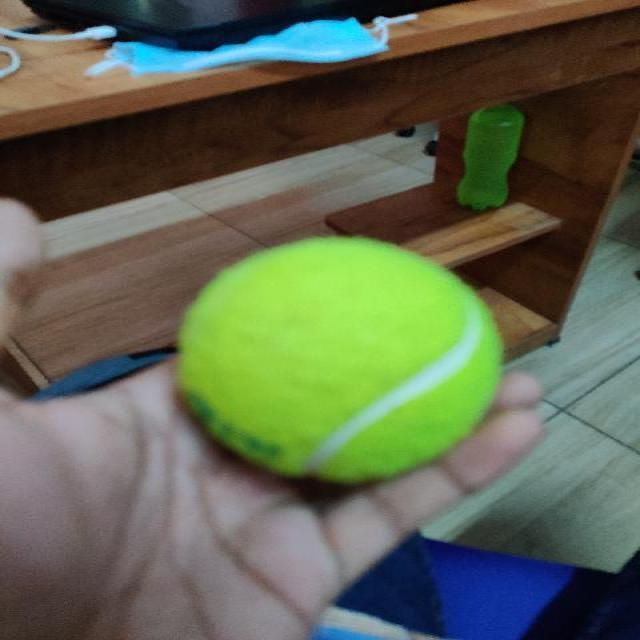tennis-ball: (177, 237, 499, 482)
